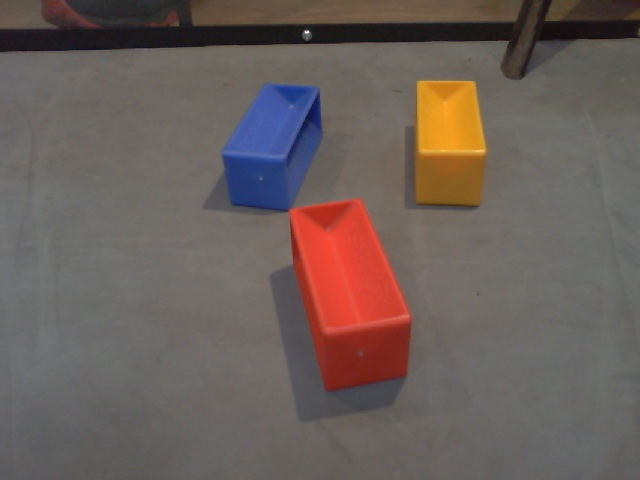BlueSample: (219, 79, 324, 212)
RedSample: (284, 194, 413, 393)
YellowSample: (410, 76, 490, 211)
